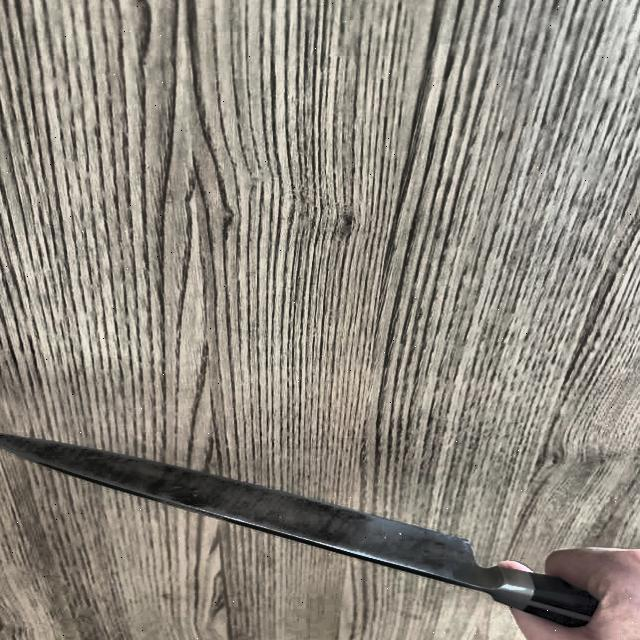knife: (0, 425, 608, 632)
